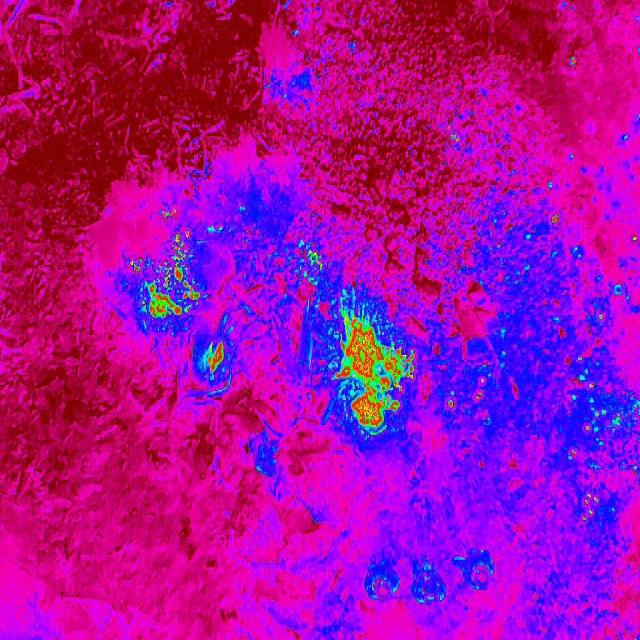fire: (567, 238, 640, 540), (334, 307, 416, 432), (132, 231, 201, 321), (301, 244, 327, 281), (205, 341, 228, 375), (441, 382, 461, 416), (549, 210, 564, 230), (446, 125, 460, 146), (162, 208, 180, 222), (566, 53, 576, 71)
